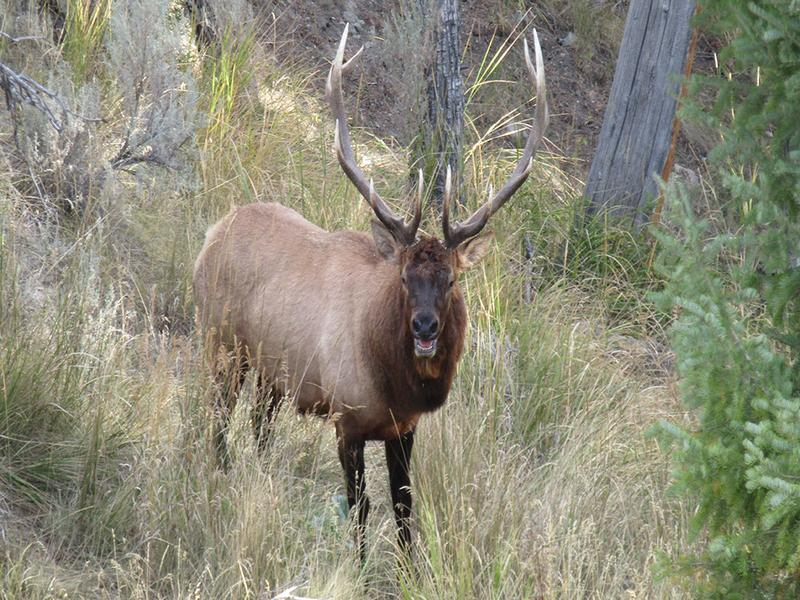elk: (186, 38, 544, 551)
